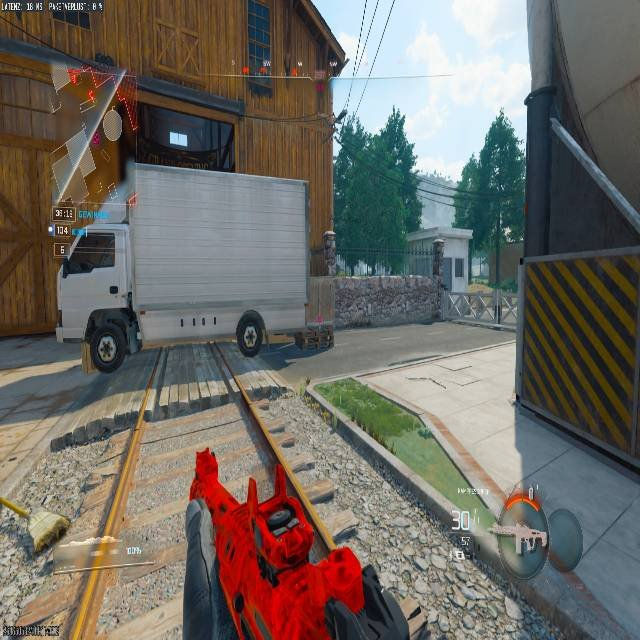player: (321, 228, 336, 273)
